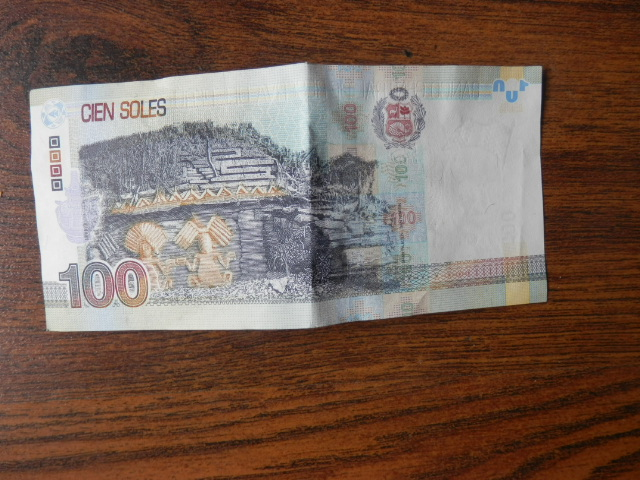B100: (22, 78, 565, 324)
